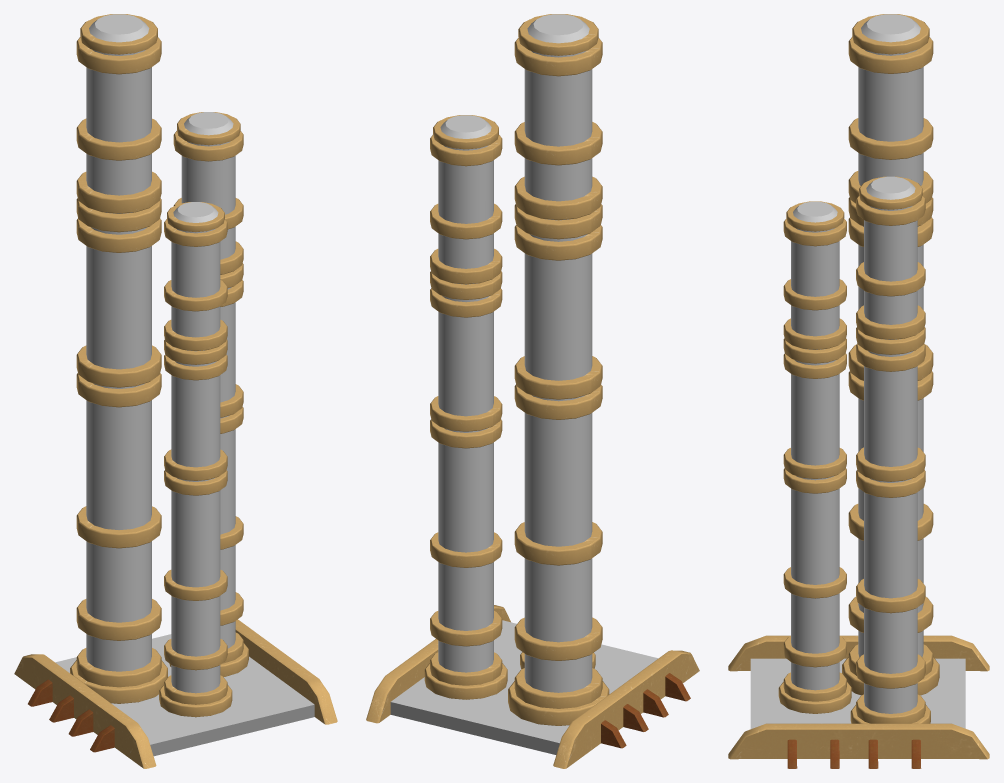
Rendered from Pipes_01.fbx.
3 renders of one model, left to right at view 1: azimuth 30°, elevation 25°; view 2: azimuth 150°, elevation 25°; view 3: azimuth 270°, elevation 25°, orthographic. The views are drawn at different scales.
Visible parts, largest first — view 1: Pipes_01; view 2: Pipes_01; view 3: Pipes_01.
Boxes of the visible parts, left/top/right/bottom form: Pipes_01: left=14, top=14, right=337, bottom=768; Pipes_01: left=366, top=14, right=699, bottom=768; Pipes_01: left=728, top=14, right=989, bottom=768.
Bounding box in the file's own units: 234 × 640 × 227.
